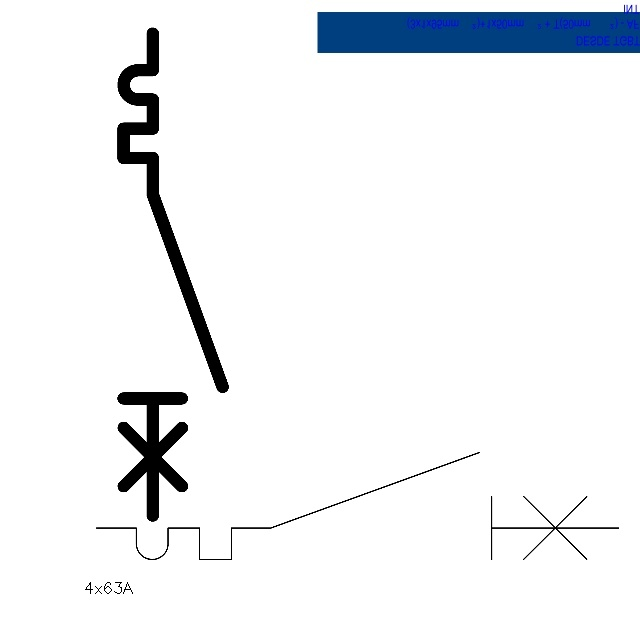interruptor_termomagnetico: (83, 439, 631, 573), (111, 21, 235, 528)
